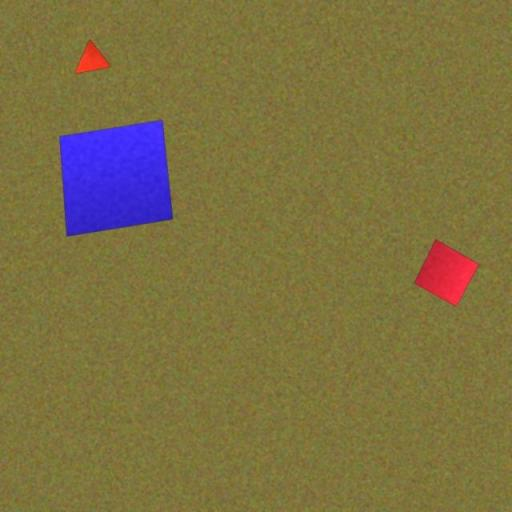BLUE_SQUARE: (58, 119, 174, 237)
RED_SQUARE: (413, 238, 480, 308)
